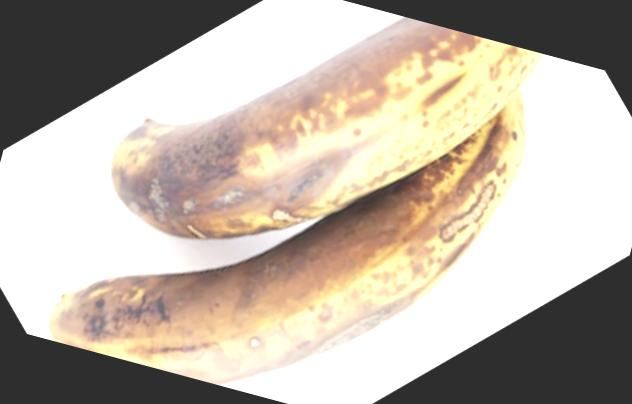Banana Overripe: (73, 0, 520, 404)
